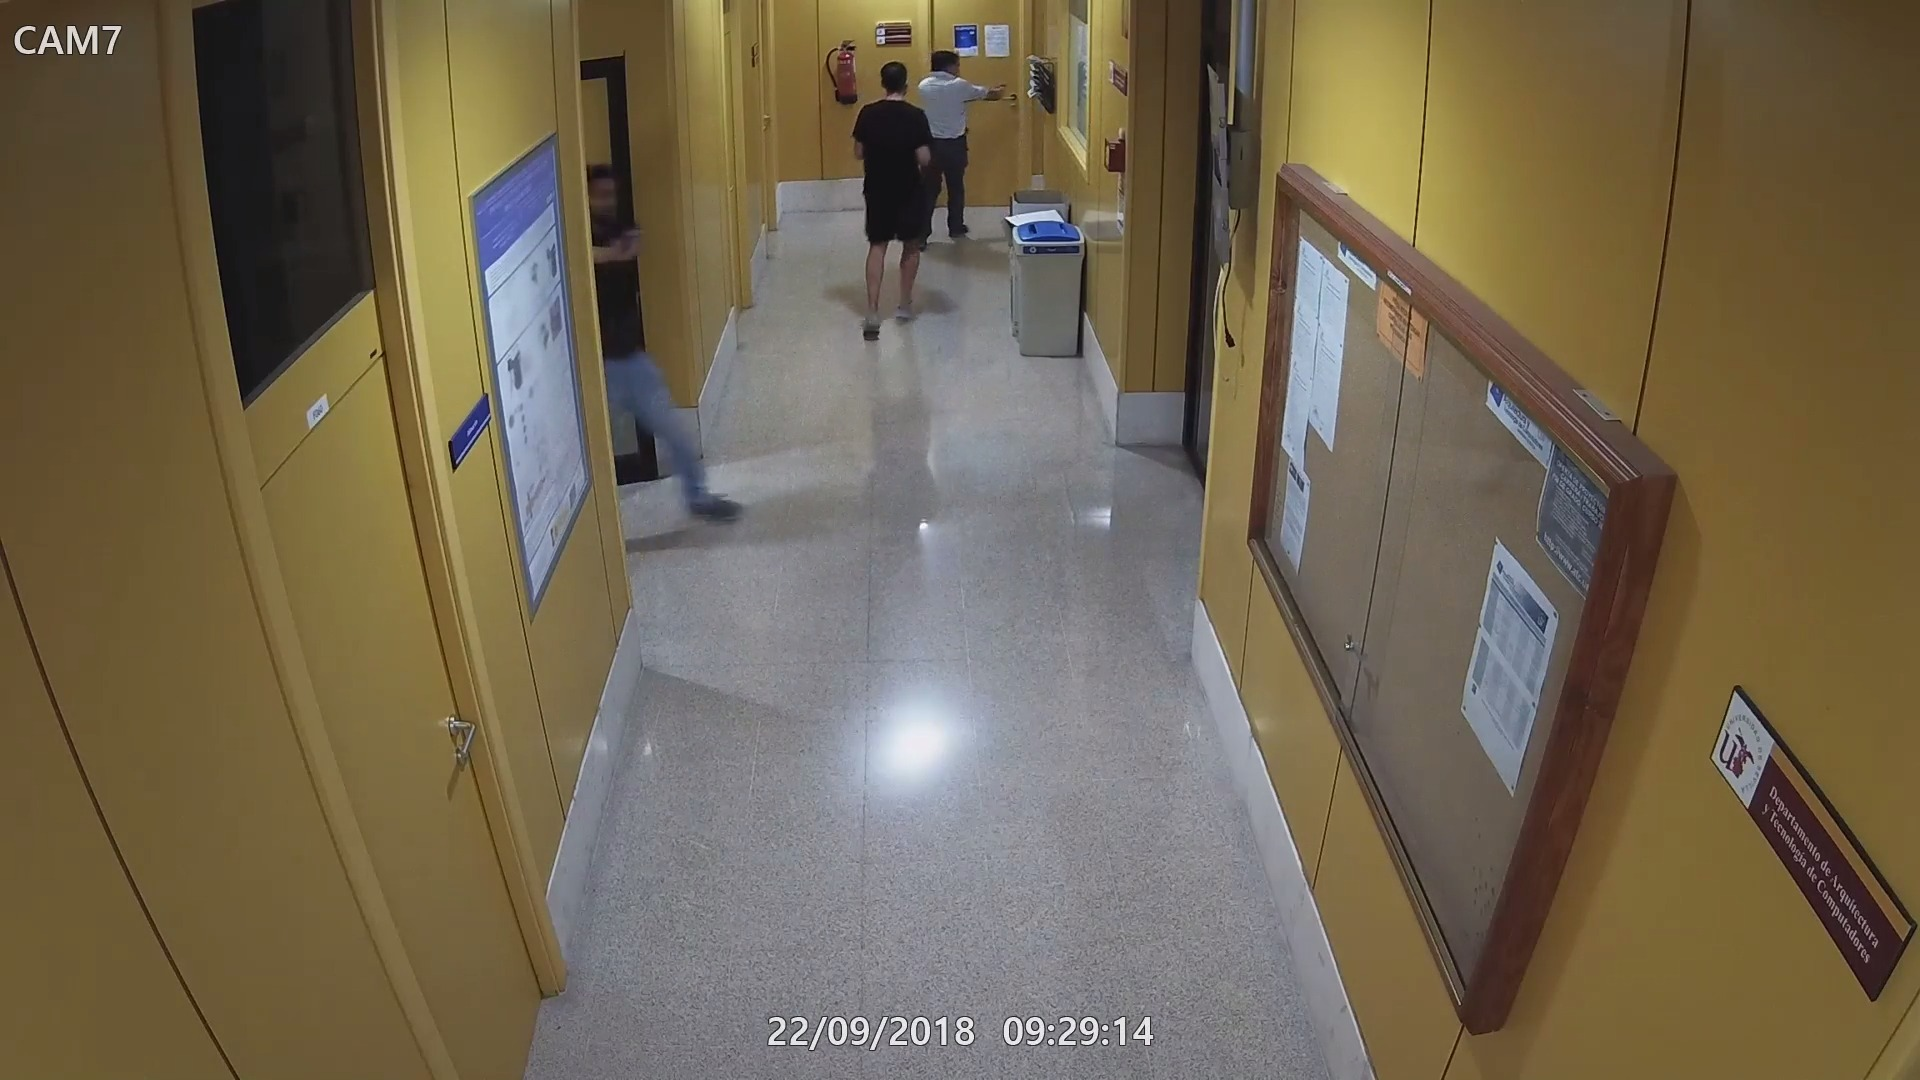Handgun: (609, 225, 653, 262), (984, 80, 1010, 107)
